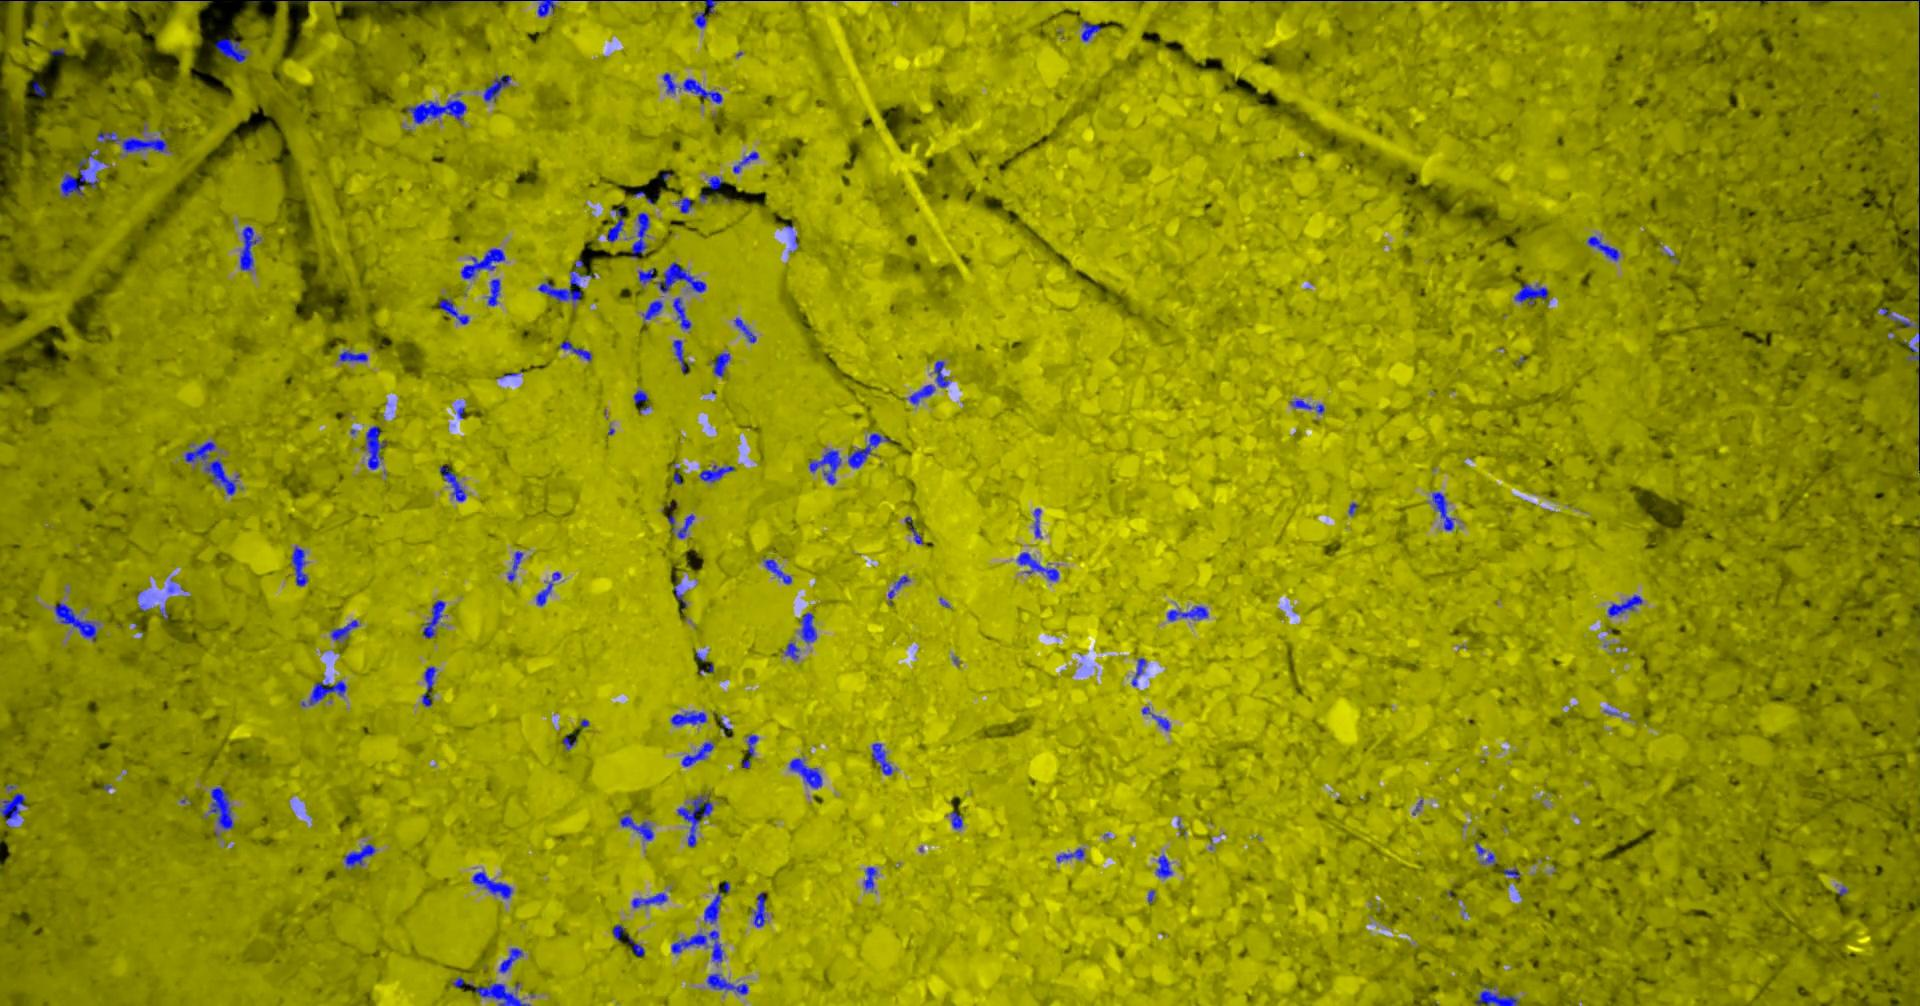ant: (184, 441, 235, 494), (537, 259, 596, 301), (676, 794, 712, 847), (406, 91, 466, 123), (60, 149, 98, 197), (909, 359, 949, 404), (55, 601, 97, 641), (670, 930, 723, 962), (655, 260, 705, 292), (97, 131, 168, 152), (847, 433, 891, 467), (460, 246, 504, 278), (469, 982, 530, 1005), (1016, 551, 1058, 580), (301, 680, 345, 706), (808, 448, 841, 484), (679, 77, 723, 103), (703, 882, 729, 923), (471, 871, 510, 898), (618, 810, 653, 840), (789, 758, 822, 788), (239, 226, 260, 271), (210, 788, 232, 829), (439, 465, 465, 500), (364, 426, 385, 469), (706, 973, 747, 995), (1431, 492, 1454, 530), (1476, 984, 1517, 1005), (422, 600, 444, 636), (1586, 235, 1619, 260), (215, 37, 246, 62), (681, 741, 712, 766), (630, 212, 648, 257), (438, 298, 469, 324), (0, 793, 24, 824), (343, 843, 375, 868), (483, 75, 510, 102), (1514, 282, 1548, 304), (1608, 594, 1642, 616), (290, 545, 307, 586), (557, 339, 590, 361), (1166, 605, 1208, 621), (763, 559, 791, 583), (606, 205, 623, 241), (871, 742, 891, 774), (693, 0, 717, 27), (698, 464, 734, 481), (888, 575, 909, 605), (1879, 307, 1911, 326), (330, 619, 358, 640), (499, 948, 523, 972), (731, 151, 758, 173), (422, 666, 436, 706), (672, 297, 690, 329), (672, 339, 690, 371), (733, 318, 756, 342), (670, 710, 706, 725), (1290, 398, 1324, 413), (631, 892, 665, 907), (799, 612, 817, 641), (676, 513, 695, 539), (507, 551, 523, 580), (904, 516, 922, 542), (1474, 841, 1495, 864), (1055, 847, 1084, 862), (535, 580, 552, 605), (1131, 657, 1145, 686), (753, 892, 764, 927), (712, 352, 729, 376), (1081, 22, 1101, 41), (535, 0, 557, 17), (674, 577, 686, 610), (1156, 854, 1172, 876), (486, 278, 500, 305), (643, 300, 662, 319), (627, 935, 644, 956), (637, 267, 657, 285), (1150, 713, 1170, 730), (863, 866, 876, 890), (338, 351, 367, 361), (662, 72, 676, 91), (785, 641, 799, 661), (1032, 508, 1041, 537), (677, 197, 692, 213), (950, 810, 963, 829), (563, 733, 577, 749), (611, 923, 623, 941), (747, 734, 757, 756), (632, 389, 648, 403), (32, 80, 44, 97), (709, 177, 723, 191), (1502, 868, 1519, 878), (343, 0, 420, 1)
